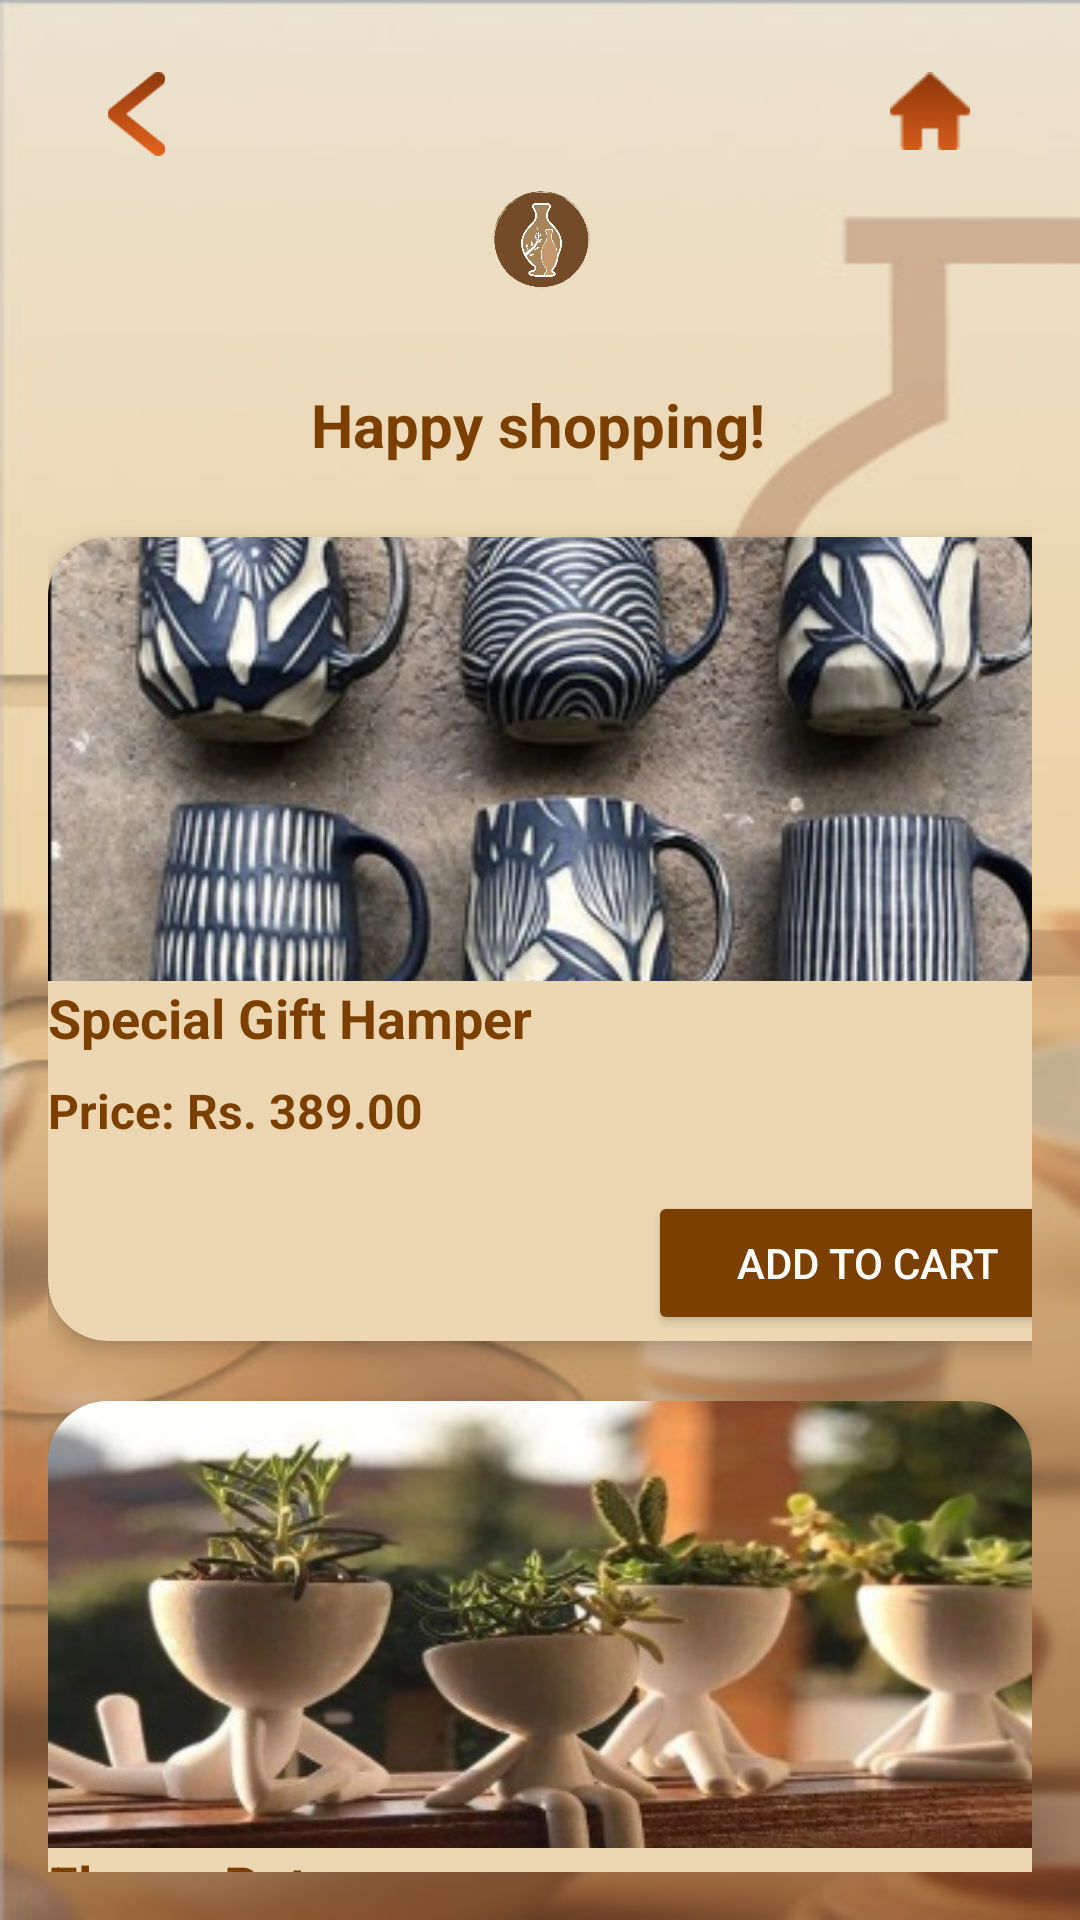

Icon bounding boxes for this 1080px×1920px phone screenshot, format [x1,y1,x2,y2]:
arrow: [108,72,165,156]
home: [890,72,970,150]
